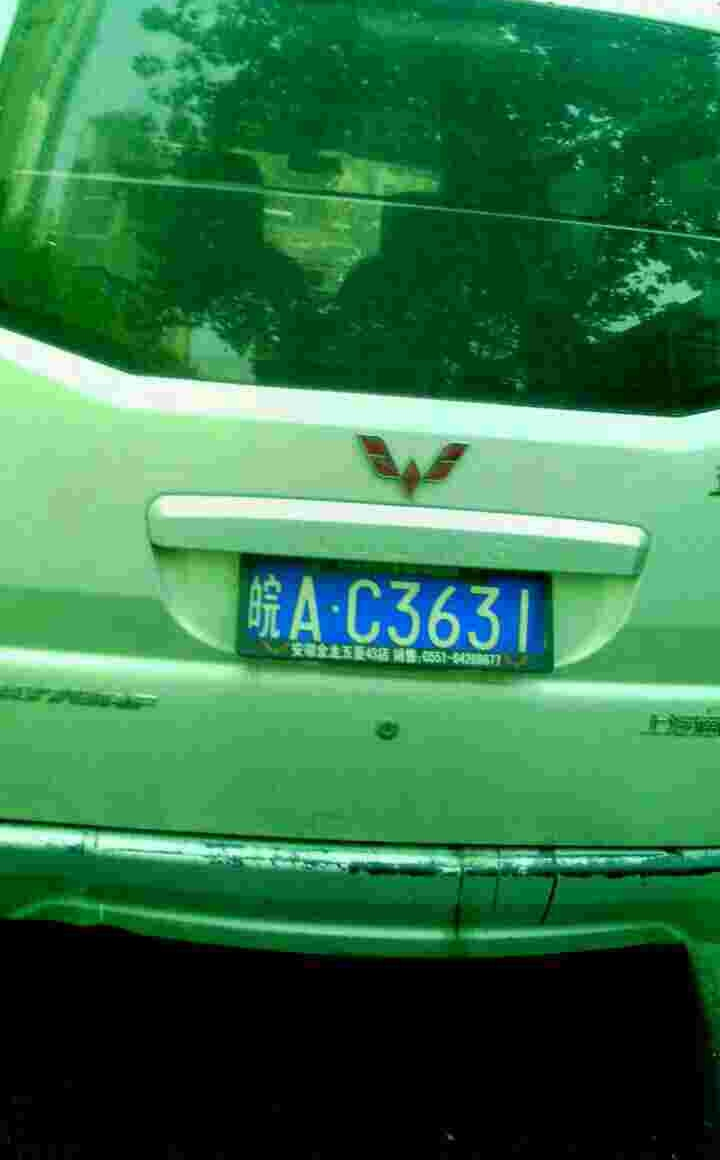license_plate: (238, 567, 553, 662)
